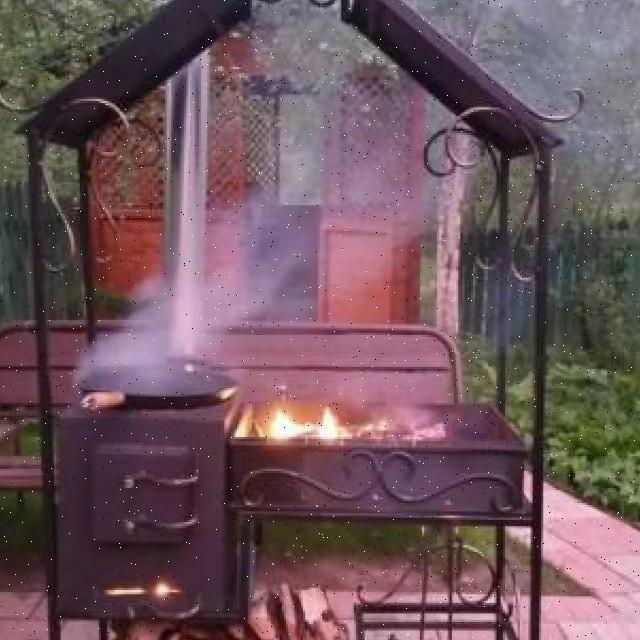fire: (267, 398, 369, 448)
smoke: (69, 242, 303, 392)
